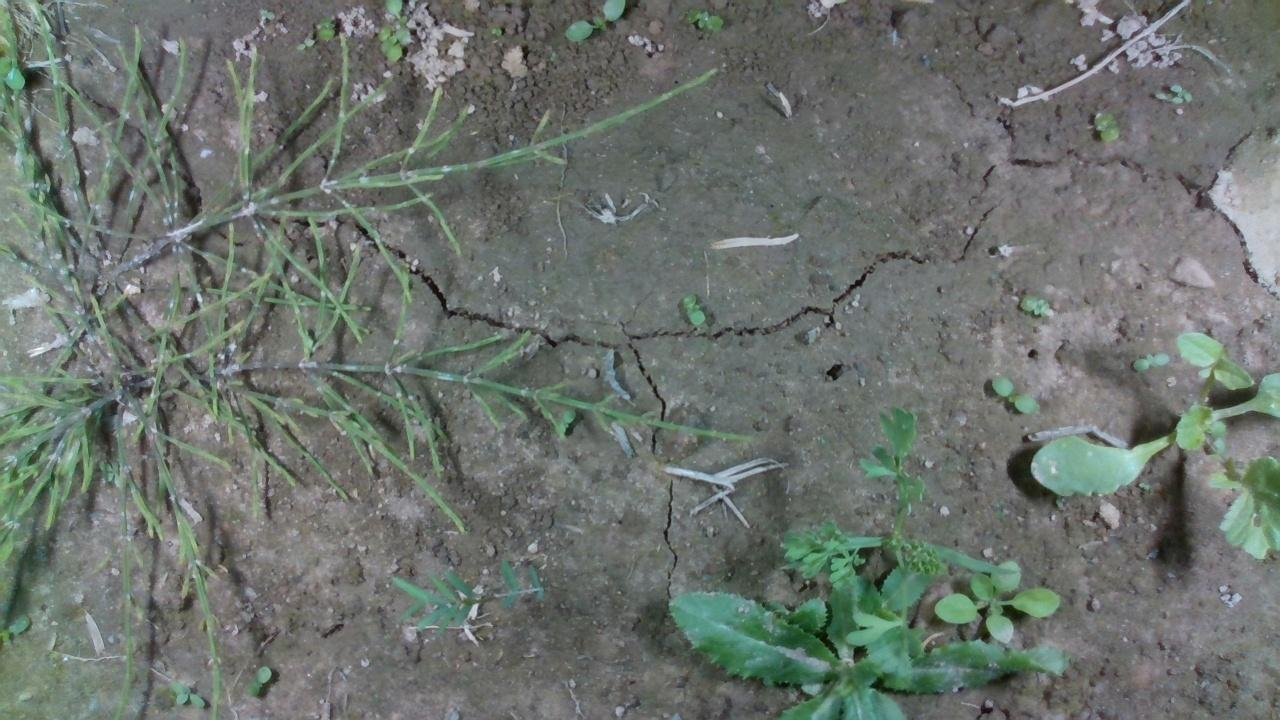weed: (989, 368, 1035, 423), (677, 287, 709, 329), (1019, 289, 1048, 320), (1134, 345, 1159, 378), (1166, 80, 1194, 109)
